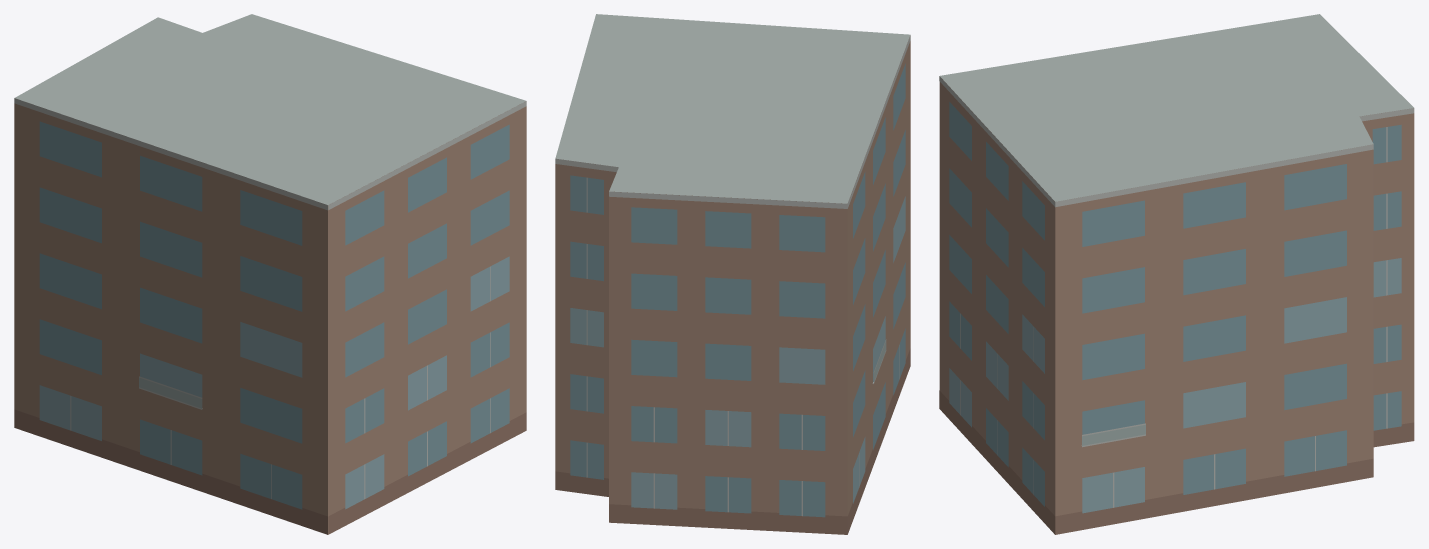
File: survey-upis-32845572.glb
The picture shows the model from 3 angles, left to right: view 1: azimuth 30°, elevation 25°; view 2: azimuth 150°, elevation 25°; view 3: azimuth 270°, elevation 25°; orthographic projection.
Parts seen in each view (by area): view 1: survey-upis-32845572.tmp; view 2: survey-upis-32845572.tmp; view 3: survey-upis-32845572.tmp.
Part boxes in pixels (x1=…): survey-upis-32845572.tmp: x1=14, y1=14, x2=526, y2=534; survey-upis-32845572.tmp: x1=555, y1=14, x2=910, y2=534; survey-upis-32845572.tmp: x1=939, y1=14, x2=1414, y2=534.
Size of the model in its own units: 18.53 by 15.3 by 19.79.
